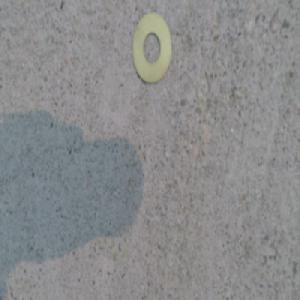Washer: (130, 13, 175, 85)
